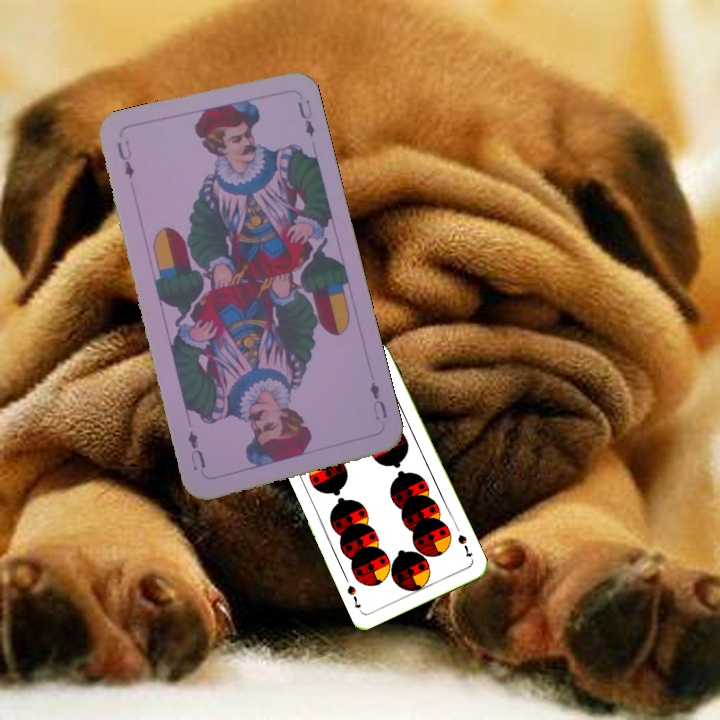EU: (365, 377, 390, 423), (113, 136, 137, 181)
S7: (453, 530, 475, 560)
